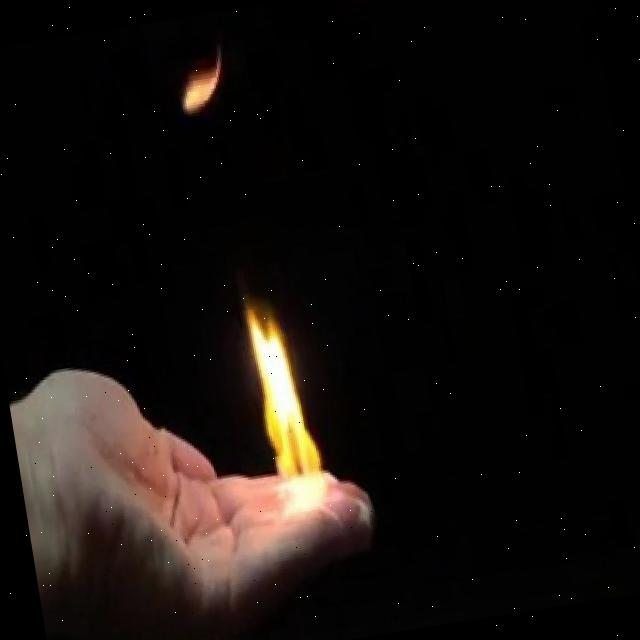fire: (216, 174, 338, 544)
